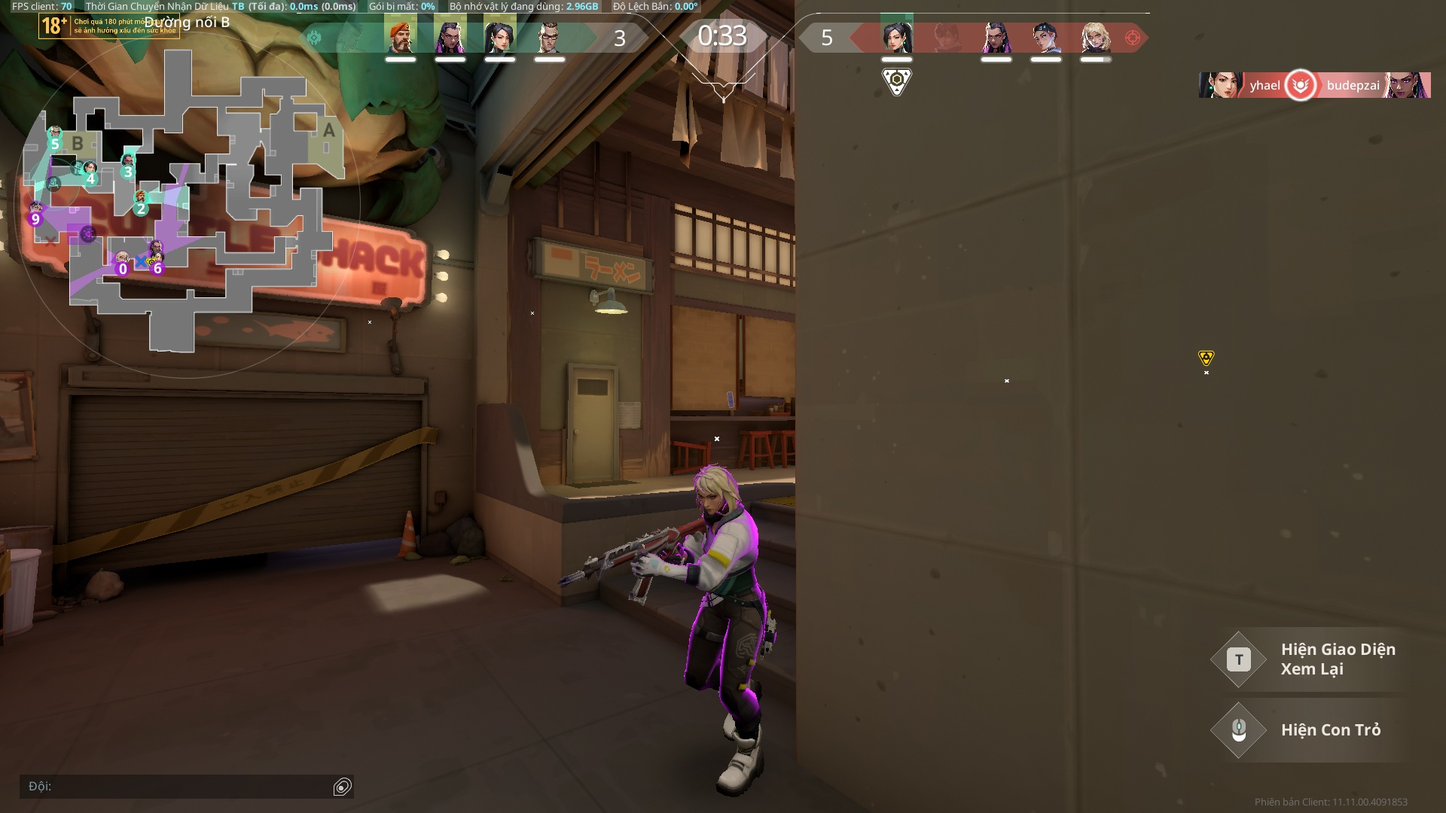body: (694, 504, 762, 596)
head: (694, 462, 738, 515)
